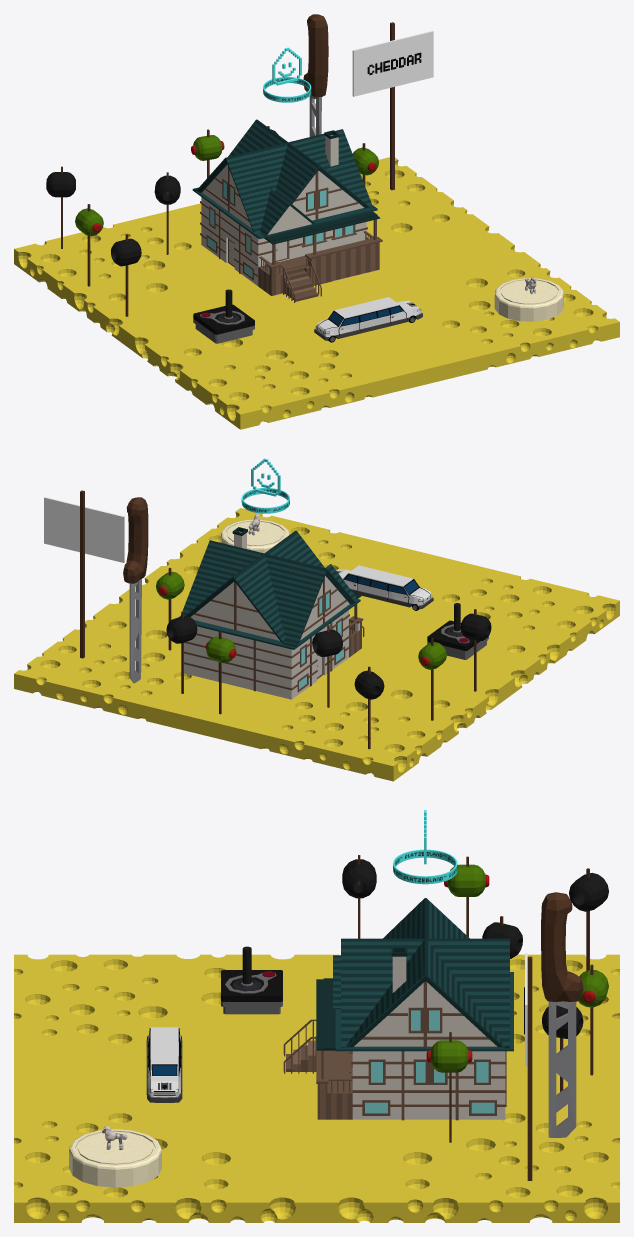
3 renders of one model, top to bottom at view 1: azimuth 30°, elevation 25°; view 2: azimuth 150°, elevation 25°; view 3: azimuth 270°, elevation 25°, orthographic. The views are drawn at different scales.
Parts seen in each view (by area): view 1: Cube.022, Cube.793, Cube.023, VEHICLES_LIMOUSINE, Cylinder.016, Cube.024, OBJRANDOM_JOYSTICK, TYPE_PREMIUM, Sphere.017, Sphere.018, Sphere.016, Sphere.020 (+2 smaller); view 2: Cube.022, Cube.793, Cube.023, Cube.024, VEHICLES_LIMOUSINE, Cylinder.016, OBJRANDOM_JOYSTICK, TYPE_PREMIUM, Sphere.021, Sphere.017, Sphere.020, Sphere.022 (+3 smaller); view 3: Cube.022, Cube.793, Cube.024, Cylinder.016, OBJRANDOM_JOYSTICK, VEHICLES_LIMOUSINE, Cube.023, Sphere.019, Sphere.016, TYPE_PREMIUM, Sphere.017, Sphere.018 (+3 smaller).
Part boxes in pixels (x1=…): Cube.022: x1=14, y1=157, x2=619, y2=429; Cube.793: x1=192, y1=119, x2=382, y2=302; Cube.023: x1=352, y1=22, x2=433, y2=190; VEHICLES_LIMOUSINE: x1=314, y1=297, x2=422, y2=342; Cylinder.016: x1=494, y1=278, x2=563, y2=321; Cube.024: x1=303, y1=14, x2=328, y2=136; OBJRANDOM_JOYSTICK: x1=193, y1=289, x2=254, y2=343; TYPE_PREMIUM: x1=263, y1=47, x2=311, y2=102; Sphere.017: x1=111, y1=234, x2=141, y2=316; Sphere.018: x1=75, y1=204, x2=103, y2=286; Sphere.016: x1=46, y1=166, x2=75, y2=248; Sphere.020: x1=154, y1=172, x2=180, y2=254; Cube.022: x1=14, y1=508, x2=619, y2=781; Cube.793: x1=179, y1=527, x2=364, y2=699; Cube.023: x1=44, y1=490, x2=124, y2=658; Cube.024: x1=123, y1=497, x2=148, y2=683; VEHICLES_LIMOUSINE: x1=336, y1=565, x2=433, y2=610; Cylinder.016: x1=220, y1=519, x2=289, y2=553; OBJRANDOM_JOYSTICK: x1=427, y1=603, x2=488, y2=659; TYPE_PREMIUM: x1=241, y1=458, x2=289, y2=513; Sphere.021: x1=166, y1=611, x2=197, y2=693; Sphere.017: x1=460, y1=609, x2=491, y2=691; Sphere.020: x1=312, y1=625, x2=342, y2=707; Sphere.022: x1=205, y1=631, x2=236, y2=714; Cube.022: x1=14, y1=954, x2=619, y2=1222; Cube.793: x1=283, y1=898, x2=513, y2=1120; Cube.024: x1=541, y1=892, x2=583, y2=1137; Cylinder.016: x1=69, y1=1129, x2=161, y2=1187; OBJRANDOM_JOYSTICK: x1=221, y1=946, x2=282, y2=1014; VEHICLES_LIMOUSINE: x1=146, y1=1027, x2=182, y2=1102; Cube.023: x1=524, y1=953, x2=532, y2=1180; Sphere.019: x1=426, y1=1032, x2=472, y2=1142; Sphere.016: x1=569, y1=868, x2=608, y2=970; TYPE_PREMIUM: x1=393, y1=810, x2=457, y2=884; Sphere.017: x1=342, y1=855, x2=376, y2=938; Sphere.018: x1=444, y1=856, x2=489, y2=937.
Bounding box in the file's own units: 3917 × 2240 × 4000.
36 materials, 5 textured.
